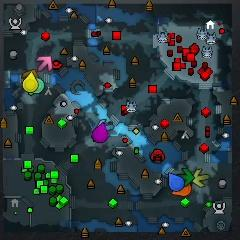p1: (167, 172, 184, 191)
p2: (29, 78, 44, 95)
p3: (92, 122, 109, 143)
p4: (23, 71, 39, 92)
p5: (170, 184, 192, 195)
x1: (36, 55, 53, 71)
x2: (193, 169, 210, 187)
x3: (99, 119, 115, 130)
x4: (176, 168, 194, 186)
x5: (23, 69, 38, 78)
